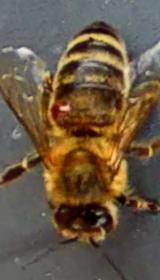varroa_mite: (48, 85, 79, 128)
